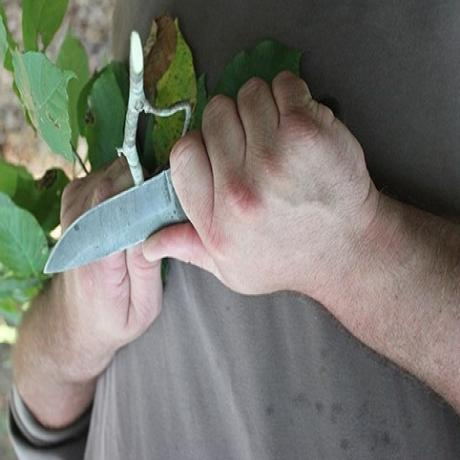1: (0, 0, 460, 460)
weapon: (40, 154, 210, 278)
